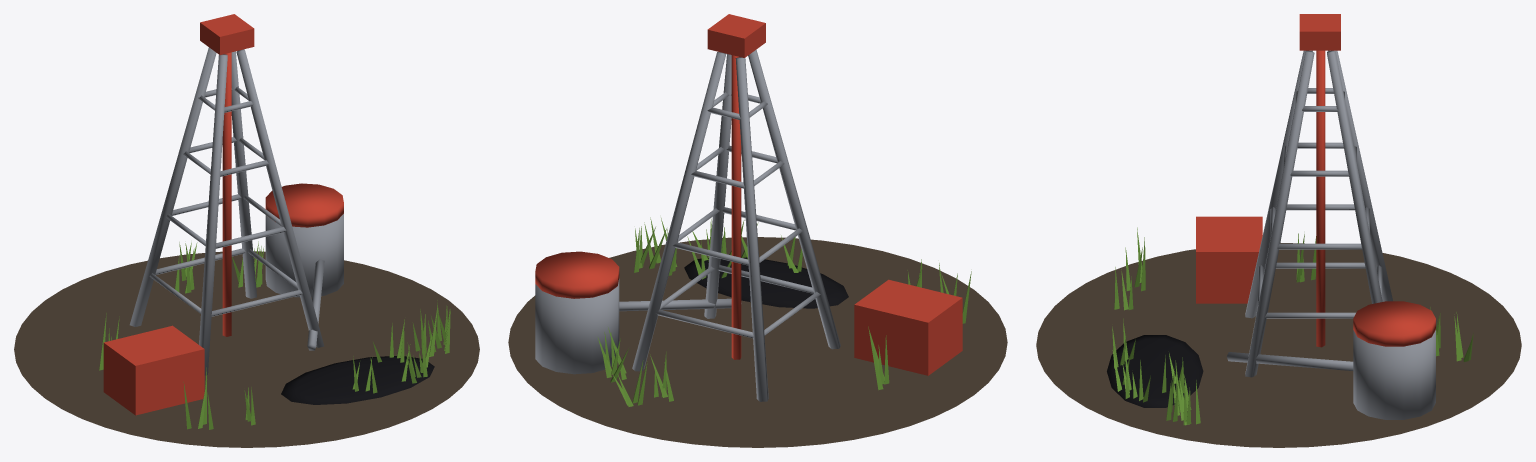
File: improvement_oil_well.fbx
The picture shows the model from 3 angles, left to right: view 1: azimuth 30°, elevation 25°; view 2: azimuth 150°, elevation 25°; view 3: azimuth 270°, elevation 25°; orthographic projection. The views are drawn at different scales.
Parts seen in each view (by area): view 1: improvement_oil_well_gpatch#4a3e32r_00, improvement_oil_well_derrick_03, improvement_oil_well_derrickr_04, improvement_oil_well_oilp_02, improvement_oil_well_leaf#6a9a3a.004_01; view 2: improvement_oil_well_gpatch#4a3e32r_00, improvement_oil_well_derrick_03, improvement_oil_well_derrickr_04, improvement_oil_well_leaf#6a9a3a.004_01, improvement_oil_well_oilp_02; view 3: improvement_oil_well_gpatch#4a3e32r_00, improvement_oil_well_derrick_03, improvement_oil_well_derrickr_04, improvement_oil_well_oilp_02, improvement_oil_well_leaf#6a9a3a.004_01.
Boxes of the visible parts, x1=… form: improvement_oil_well_gpatch#4a3e32r_00: x1=14, y1=251, x2=479, y2=447; improvement_oil_well_derrick_03: x1=129, y1=47, x2=343, y2=375; improvement_oil_well_derrickr_04: x1=103, y1=14, x2=343, y2=415; improvement_oil_well_oilp_02: x1=281, y1=356, x2=434, y2=404; improvement_oil_well_leaf#6a9a3a.004_01: x1=99, y1=241, x2=450, y2=429; improvement_oil_well_gpatch#4a3e32r_00: x1=508, y1=237, x2=1007, y2=447; improvement_oil_well_derrick_03: x1=535, y1=49, x2=840, y2=401; improvement_oil_well_derrickr_04: x1=535, y1=14, x2=962, y2=375; improvement_oil_well_leaf#6a9a3a.004_01: x1=597, y1=217, x2=971, y2=406; improvement_oil_well_oilp_02: x1=684, y1=257, x2=848, y2=308; improvement_oil_well_gpatch#4a3e32r_00: x1=1036, y1=242, x2=1521, y2=447; improvement_oil_well_derrick_03: x1=1226, y1=50, x2=1435, y2=419; improvement_oil_well_derrickr_04: x1=1196, y1=14, x2=1435, y2=347; improvement_oil_well_oilp_02: x1=1107, y1=335, x2=1203, y2=407; improvement_oil_well_leaf#6a9a3a.004_01: x1=1112, y1=227, x2=1473, y2=425.
Bounding box in the file's own units: 118 × 88.6 × 118.
